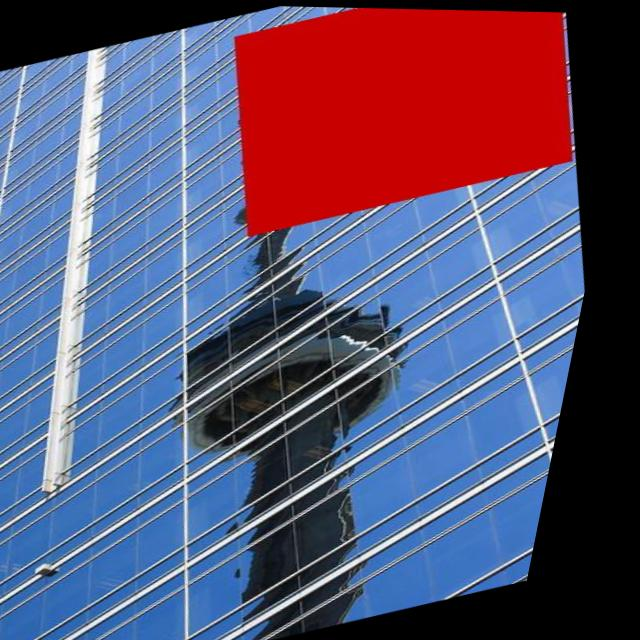RedSquare: (183, 4, 606, 249)
